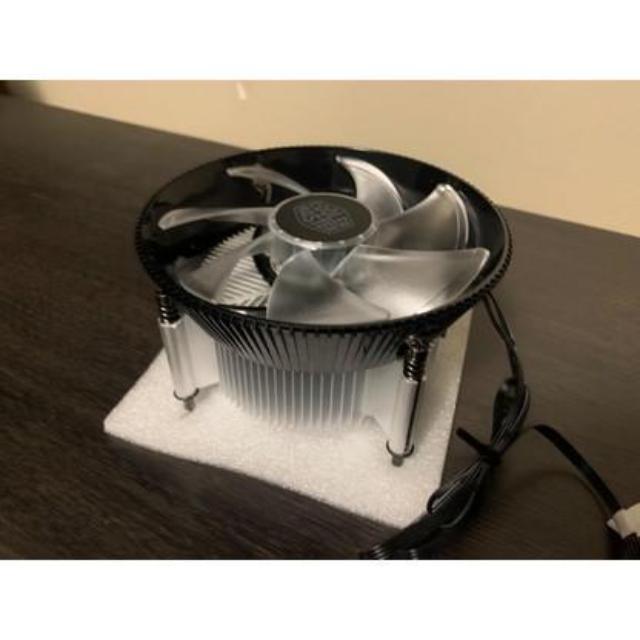CPU_Fan: (133, 142, 518, 470)
